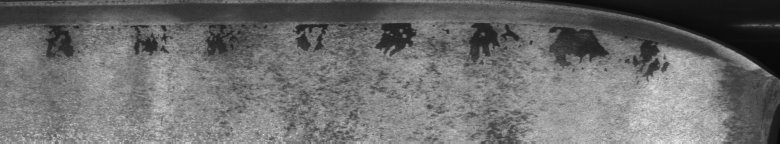kb: (9, 0, 758, 144)
